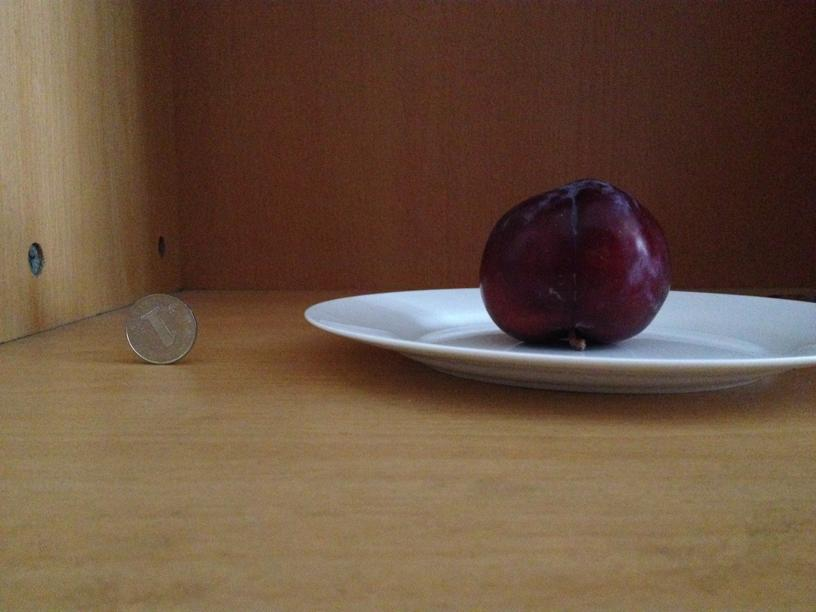coin: (124, 292, 199, 366)
plum: (473, 178, 668, 347)
